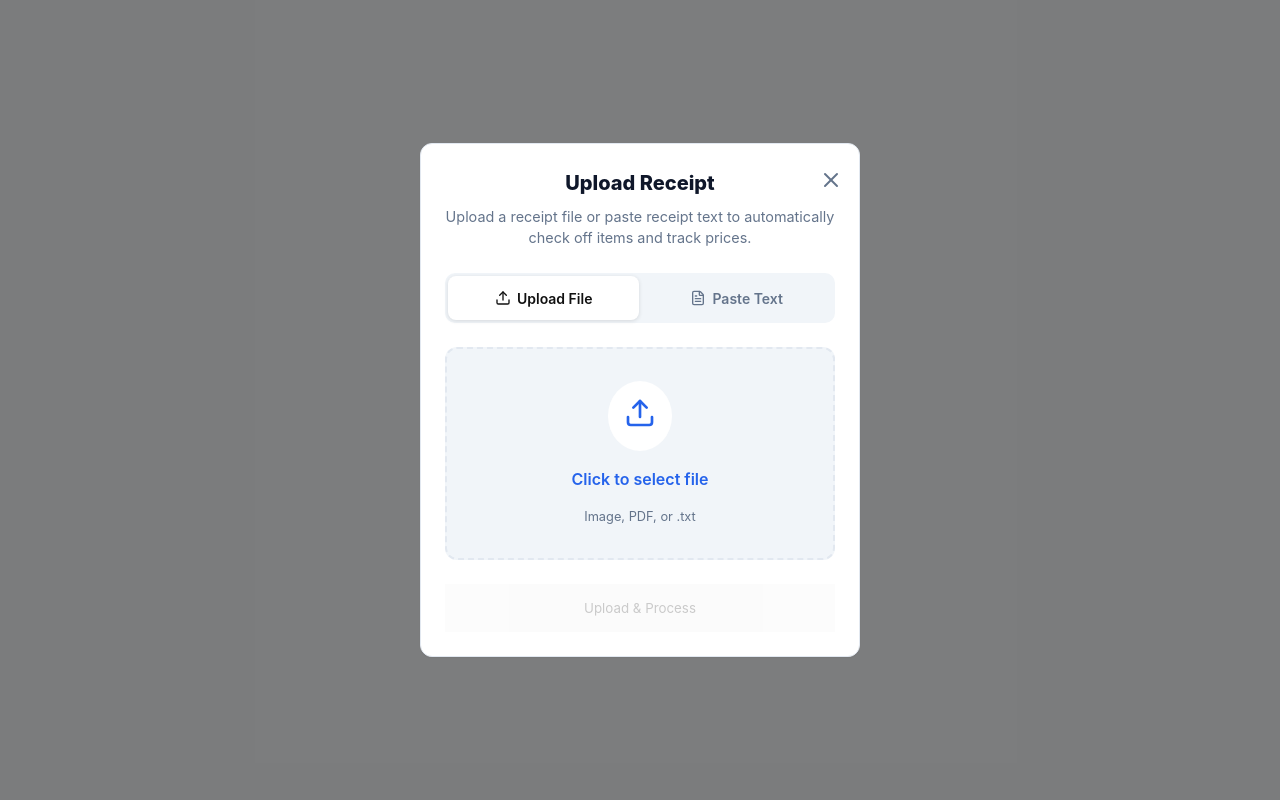
it: ReceiptUploadModal › switches to Paste mode when tab clicked
Click the button with test id "tab-paste" at [736, 298], box [641, 276, 832, 320]
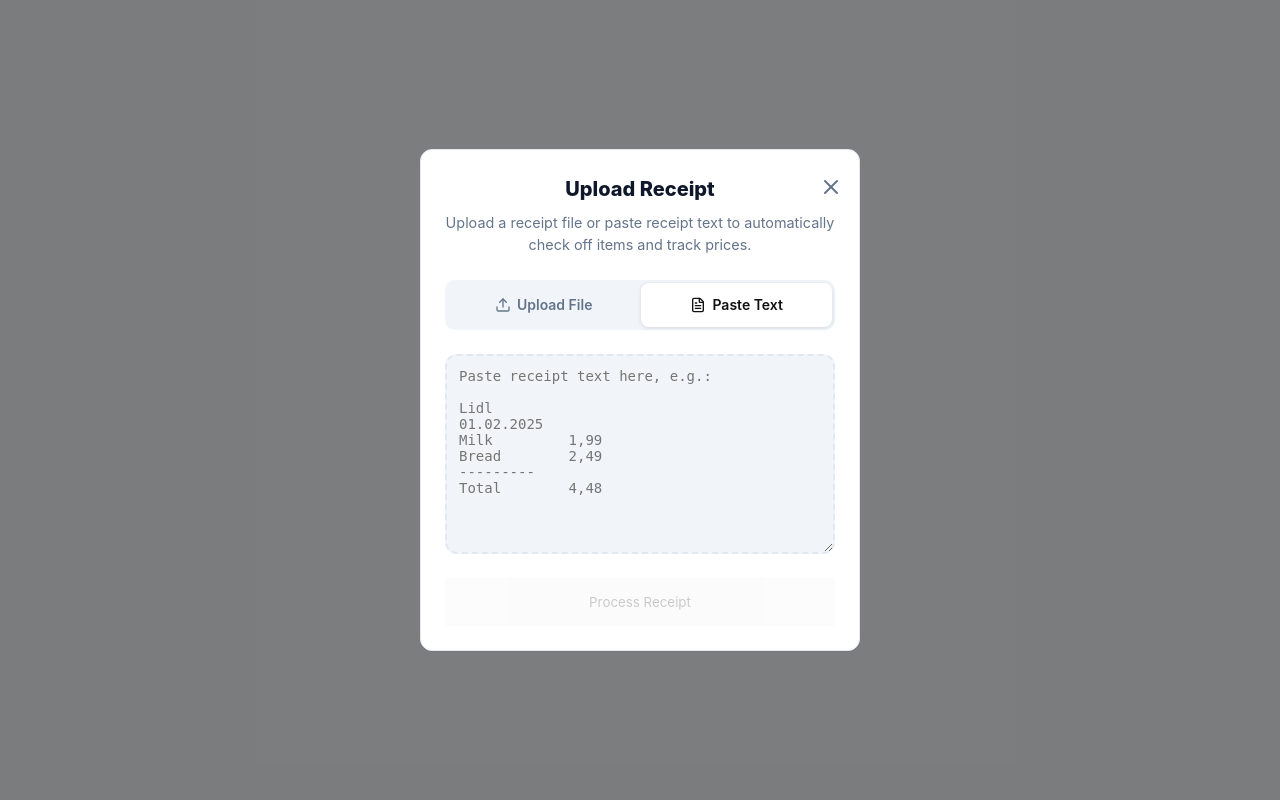
expect the text box with test id "receipt-textarea" is shown: met, box [445, 354, 835, 554]
